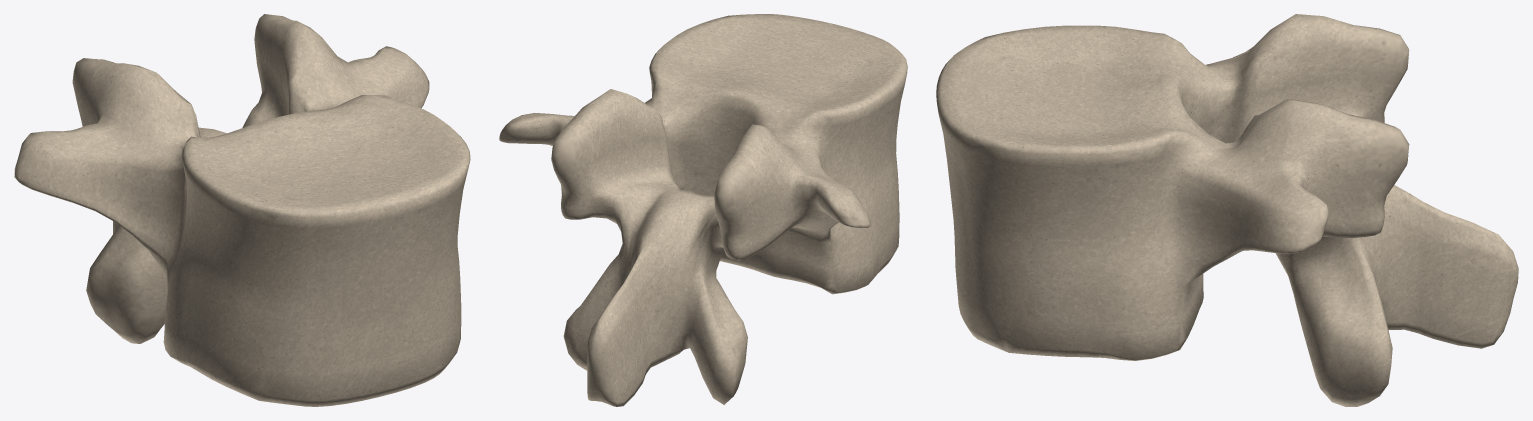
The model's file is lumbar.glb.
3 renders of one model, left to right at view 1: azimuth 30°, elevation 25°; view 2: azimuth 150°, elevation 25°; view 3: azimuth 270°, elevation 25°, orthographic. The views are drawn at different scales.
Parts seen in each view (by area): view 1: lumbar_vertebra; view 2: lumbar_vertebra; view 3: lumbar_vertebra.
Boxes of the visible parts, x1=… form: lumbar_vertebra: x1=14, y1=14, x2=470, y2=406; lumbar_vertebra: x1=499, y1=14, x2=907, y2=406; lumbar_vertebra: x1=936, y1=14, x2=1518, y2=406.
Size of the model in its own units: 3.03 by 2.08 by 3.5.
Materials: 1 (1 with a texture image).
